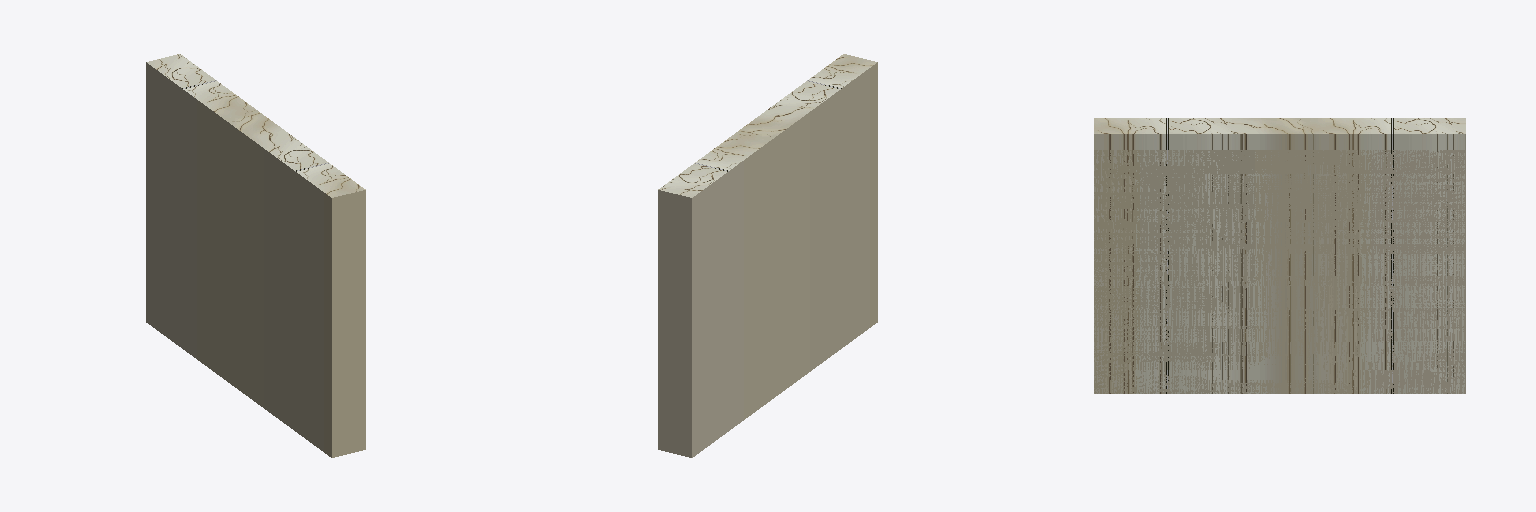
3 views of the same model, side by side, from view 1: azimuth 30°, elevation 25°; view 2: azimuth 150°, elevation 25°; view 3: azimuth 270°, elevation 25° (orthographic).
Visible parts, largest first — view 1: Box011; view 2: Box011; view 3: Box011.
Part boxes in pixels (x1,y1,x2,y2): Box011: (146,54,365,457); Box011: (658,54,877,457); Box011: (1094,118,1465,393).
Size of the model in its own units: 13.78 by 100 by 130.
1 materials, 1 textured.